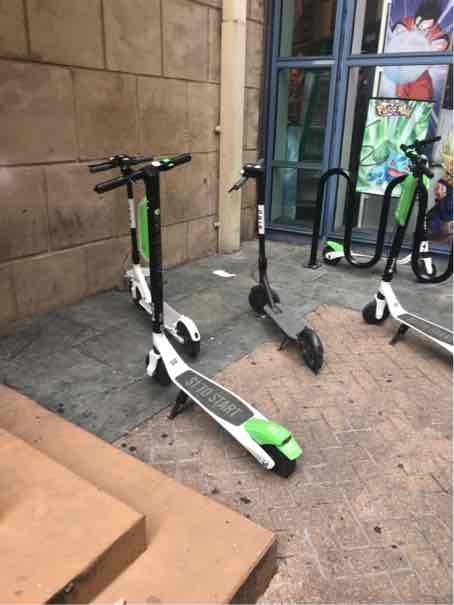scooter: (71, 145, 310, 474)
